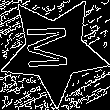M_E: (28, 26, 80, 75)
